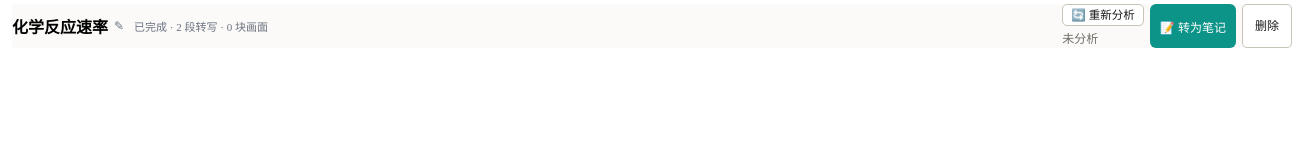
Test: D1 · 行为级（改前就该绿；粘性改动不许动这条路径） › D1-b ✎ 进改名（预填原标题）· Esc 取消 ⇒ 输入框消失、标题回来、**零 IPC**
Click the button with test id "session-rename-open" at coordinates (119, 26), box [114,19,124,33]
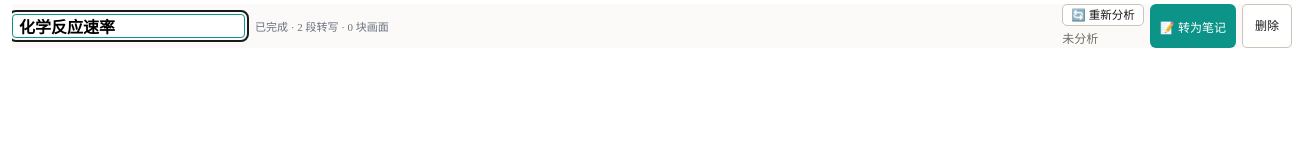
Expected: the field with test id "session-title-input" holds "化学反应速率"
Replace the text in the field with test id "session-title-input" with "改了一半就反悔" at coordinates (128, 26), box [12,14,245,38]
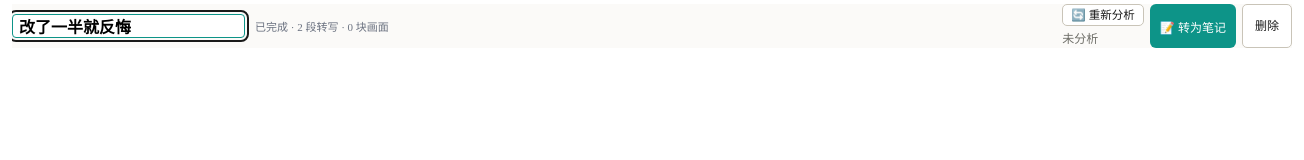
Press Escape in the field with test id "session-title-input", box [12,14,245,38]
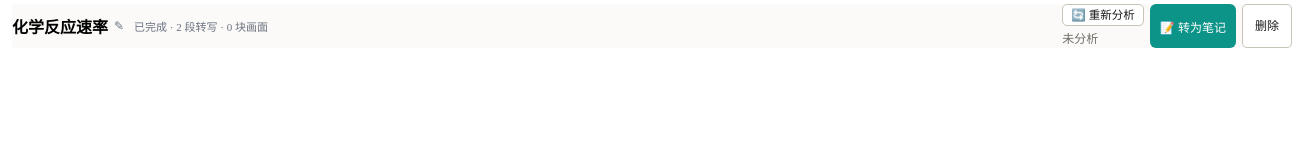
Expected: the field with test id "session-title-input" is gone
Expected: the heading "化学反应速率 ✎" is shown, [12,14,124,38]
